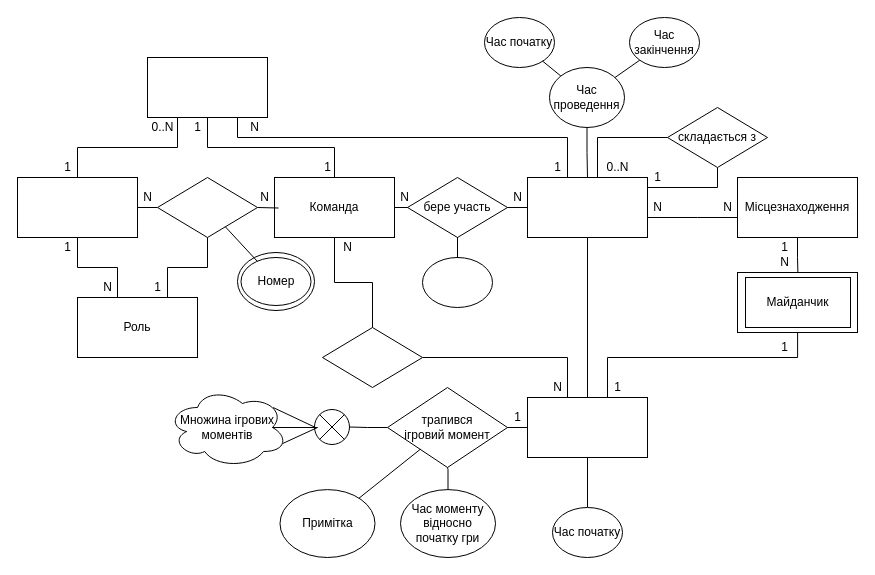
This 875x575 diagram has some shape labels left out. The centre of each missing label's shape, as x and y in pixels:
"Вид спорту" belongs at point 207,87.
"Гра" belongs at point 587,427.
"Грає" belongs at point 372,357.
"Змагання" belongs at point 587,207.
"Людина" belongs at point 77,207.
"у складі" belongs at point 207,207.
"Час реєстрації" belongs at point 457,282.
